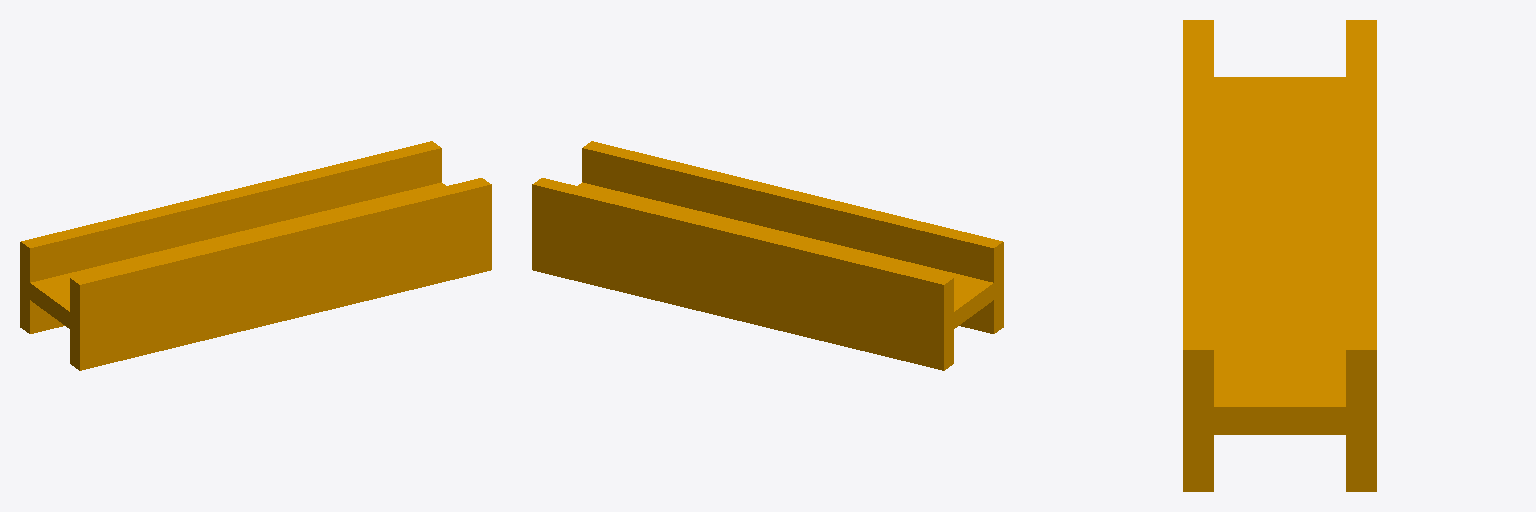
robot.urdf — simple_box:
<?xml version="1.0" ?>
<robot name="simple_box">
  <link name="my_box">
    <inertial>
      <origin xyz="0 0 0" /> 
      <mass value="100.0" />
      <inertia  ixx="100.0" ixy="0.0"  ixz="0.0"  iyy="100.0"  iyz="0.0"  izz="100.0" />
    </inertial>
    <visual>
      <origin xyz="0 0 0"/>
      <geometry>
        <!--box size="4 1  0.01" /-->
        <mesh filename="package://aliengo_gazebo/launch/world/belt.stl" scale="0.3 0.3 0.3"/>
      </geometry>
    </visual>
    <collision>
      <origin xyz="0 0 0"/>
      <geometry>
        <!--box size="4  1 0.01" /-->
        <mesh filename="package://aliengo_gazebo/launch/world/belt.stl" scale="0.3 0.3 0.3"/>
      </geometry>
    </collision>
  </link>
  <gazebo reference="my_box">
    <material>Gazebo/FlatBlack</material>
  </gazebo>
<joint name="laser_belt_joint" type="fixed">
        <parent link="my_box"/>
        <child link="laser_link_belt"/>
        <origin rpy="0 0 3.14" xyz="1.3 0 0.3"/>
    </joint>

 <link name="laser_link_belt">
        <inertial>
            <mass value="0.001"/>
            <origin rpy="0 0 0" xyz="0 0 0"/>
            <inertia ixx="0.0001" ixy="0" ixz="0" iyy="0.000001" iyz="0" izz="0.0001"/>
        </inertial>
        <visual>
            <origin rpy="0 0 0" xyz="0 0 0"/>
            <geometry>
                <box size="0.001 0.001 0.001"/>
            </geometry>
            <material name="red"/>
        </visual>
        <collision>
            <origin rpy="0 0 0" xyz="0 0 0"/>
            <geometry>
                <box size=".001 .001 .001"/>
            </geometry>
        </collision>
    </link>

<!--3D LiDAR -->
	<gazebo reference="laser_link_belt">
		  <sensor name="velodyne_belt" type="ray">
			<always_on>true</always_on> 
			<update_rate>10</update_rate>
			<visualize>true</visualize>
			<ray>
			  <scan>
			<horizontal>
			  <samples>2</samples>
			  <resolution>1</resolution>
			  <min_angle>0</min_angle> <!--135 derece -> -0.80 radyan-->
			  <max_angle>0.05</max_angle>  <!--135 derece -> 0.8 radyan-->
			</horizontal>
			<vertical>
			  <samples>1</samples> <!--lazer katman sayisi-->
			  <resolution>1</resolution>
			  <min_angle>-0.05</min_angle> <!-- -0.8radyan-->
			  <max_angle>0.05</max_angle> <!-- 0.8 radyan-->
			</vertical>
			  </scan>
			  <range>
			<min>0.1</min> <!--metre-->
			<max>10</max> <!--metre-->
			<resolution>0.1</resolution>
			  </range>
			</ray>
			<plugin name="gazebo_ros_laser_controller" filename="libgazebo_ros_velodyne_laser.so"> <!-- https://bitbucket.org/DataspeedInc/velodyne_simulator.git -->
			  <frameName>laser_link_belt</frameName>
			  <topicName>/belt/cloud</topicName>
			  <gaussianNoise>0.01</gaussianNoise>
			  <hokuyoMinIntensity>1</hokuyoMinIntensity>
			  <alwaysOn>true</alwaysOn>
			  <updateRate>5</updateRate>
			  <pcl>2.0</pcl> 
			</plugin>
		  </sensor>
	</gazebo>
</robot>

--- Render facts (derived) ---
3 views of the same robot in one strip: view 1: azimuth 30°, elevation 25°; view 2: azimuth 150°, elevation 25°; view 3: azimuth 270°, elevation 25° (orthographic).
Model simple_box with 2 links and 1 joints (1 fixed), rooted at my_box, posed every joint at zero.
Visible links, largest first — view 1: my_box; view 2: my_box; view 3: my_box.
Link boxes in pixels (<box>): my_box: <box>20,141,491,370</box>; my_box: <box>532,141,1003,370</box>; my_box: <box>1183,20,1376,491</box>.
Bounding box of the posed robot: 3.01 × 0.7502 × 0.6005 m (x, y, z).
1 mesh visuals loaded from 1 distinct referenced files (1 binary STL).